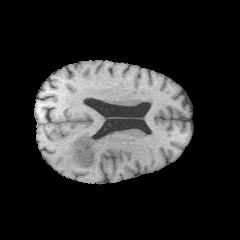glioma: (59, 128, 108, 176)
